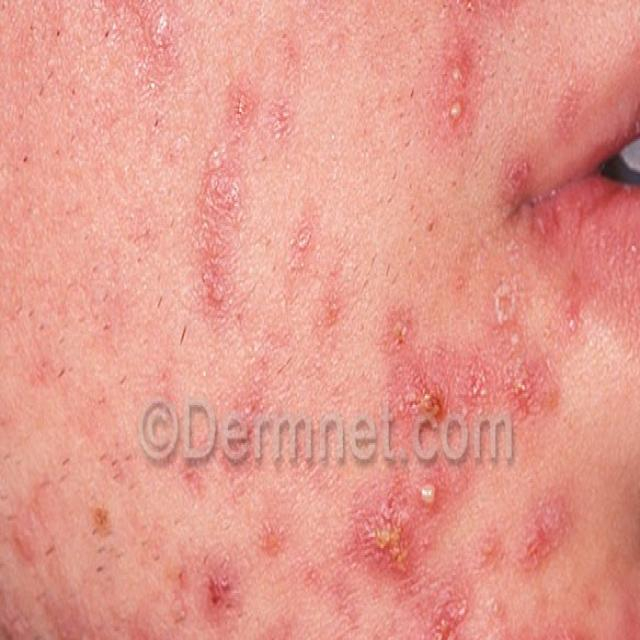Acne: (197, 29, 348, 462), (352, 303, 493, 640), (0, 457, 182, 640), (431, 15, 486, 147), (518, 480, 578, 580), (191, 539, 249, 637), (133, 0, 191, 94), (541, 270, 591, 357), (500, 142, 537, 216)
